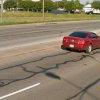Car: (57, 26, 100, 62)
